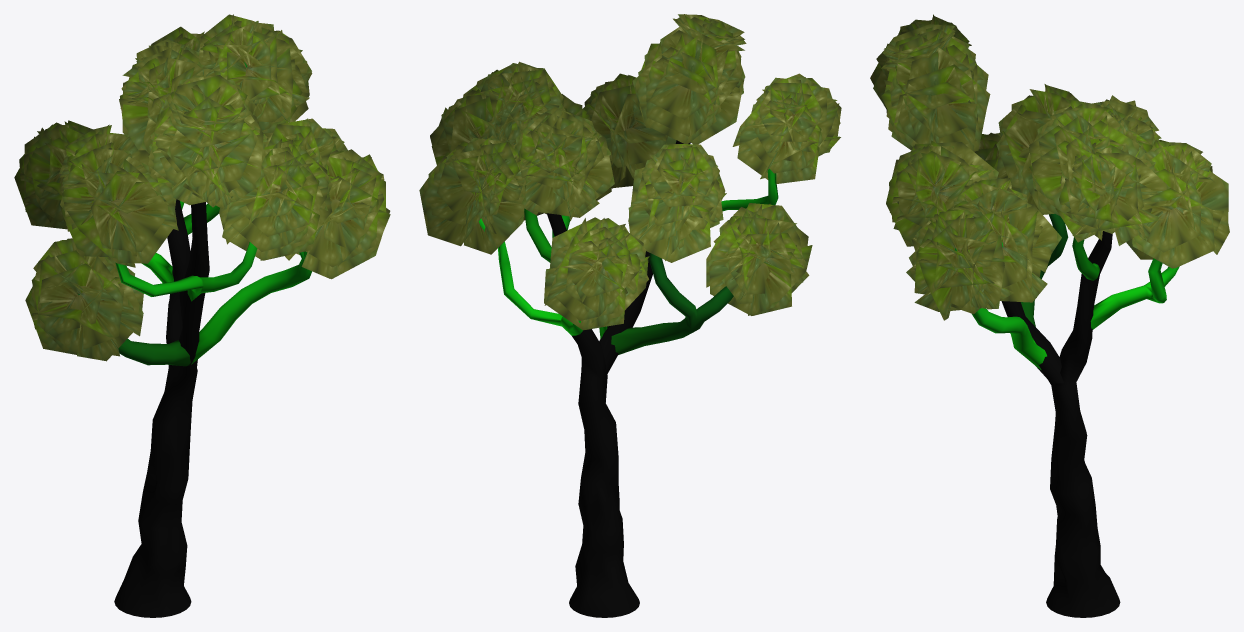
The model's file is joshua.fbx.
3 views of the same model, side by side, from view 1: azimuth 30°, elevation 25°; view 2: azimuth 150°, elevation 25°; view 3: azimuth 270°, elevation 25° (orthographic). The views are drawn at different scales.
Visible parts, largest first — view 1: Tree_1, Tree_0; view 2: Tree_1, Tree_0; view 3: Tree_1, Tree_0.
Part boxes in pixels (x1,y1,x2,y2): Tree_1: [14, 14, 390, 361]; Tree_0: [78, 62, 311, 617]; Tree_1: [419, 14, 841, 330]; Tree_0: [479, 140, 778, 617]; Tree_1: [870, 14, 1229, 320]; Tree_0: [955, 214, 1179, 617].
Size of the model in its own units: 223 by 369 by 214.
Materials: 1 (1 with a texture image).
